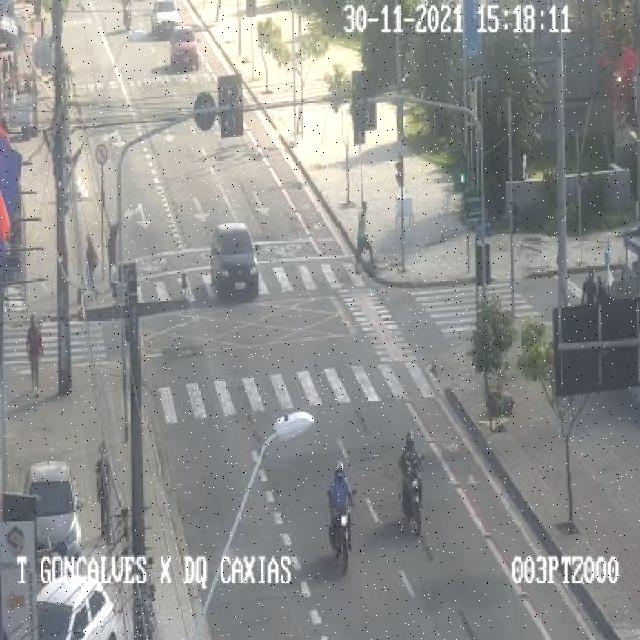car: (25, 462, 81, 572), (35, 574, 117, 640), (210, 222, 258, 296), (170, 24, 199, 70)
motorbike: (328, 459, 354, 572), (398, 429, 424, 534), (96, 440, 112, 542), (354, 200, 376, 274), (25, 314, 44, 394), (106, 220, 122, 291), (85, 233, 98, 298), (580, 270, 597, 306)
